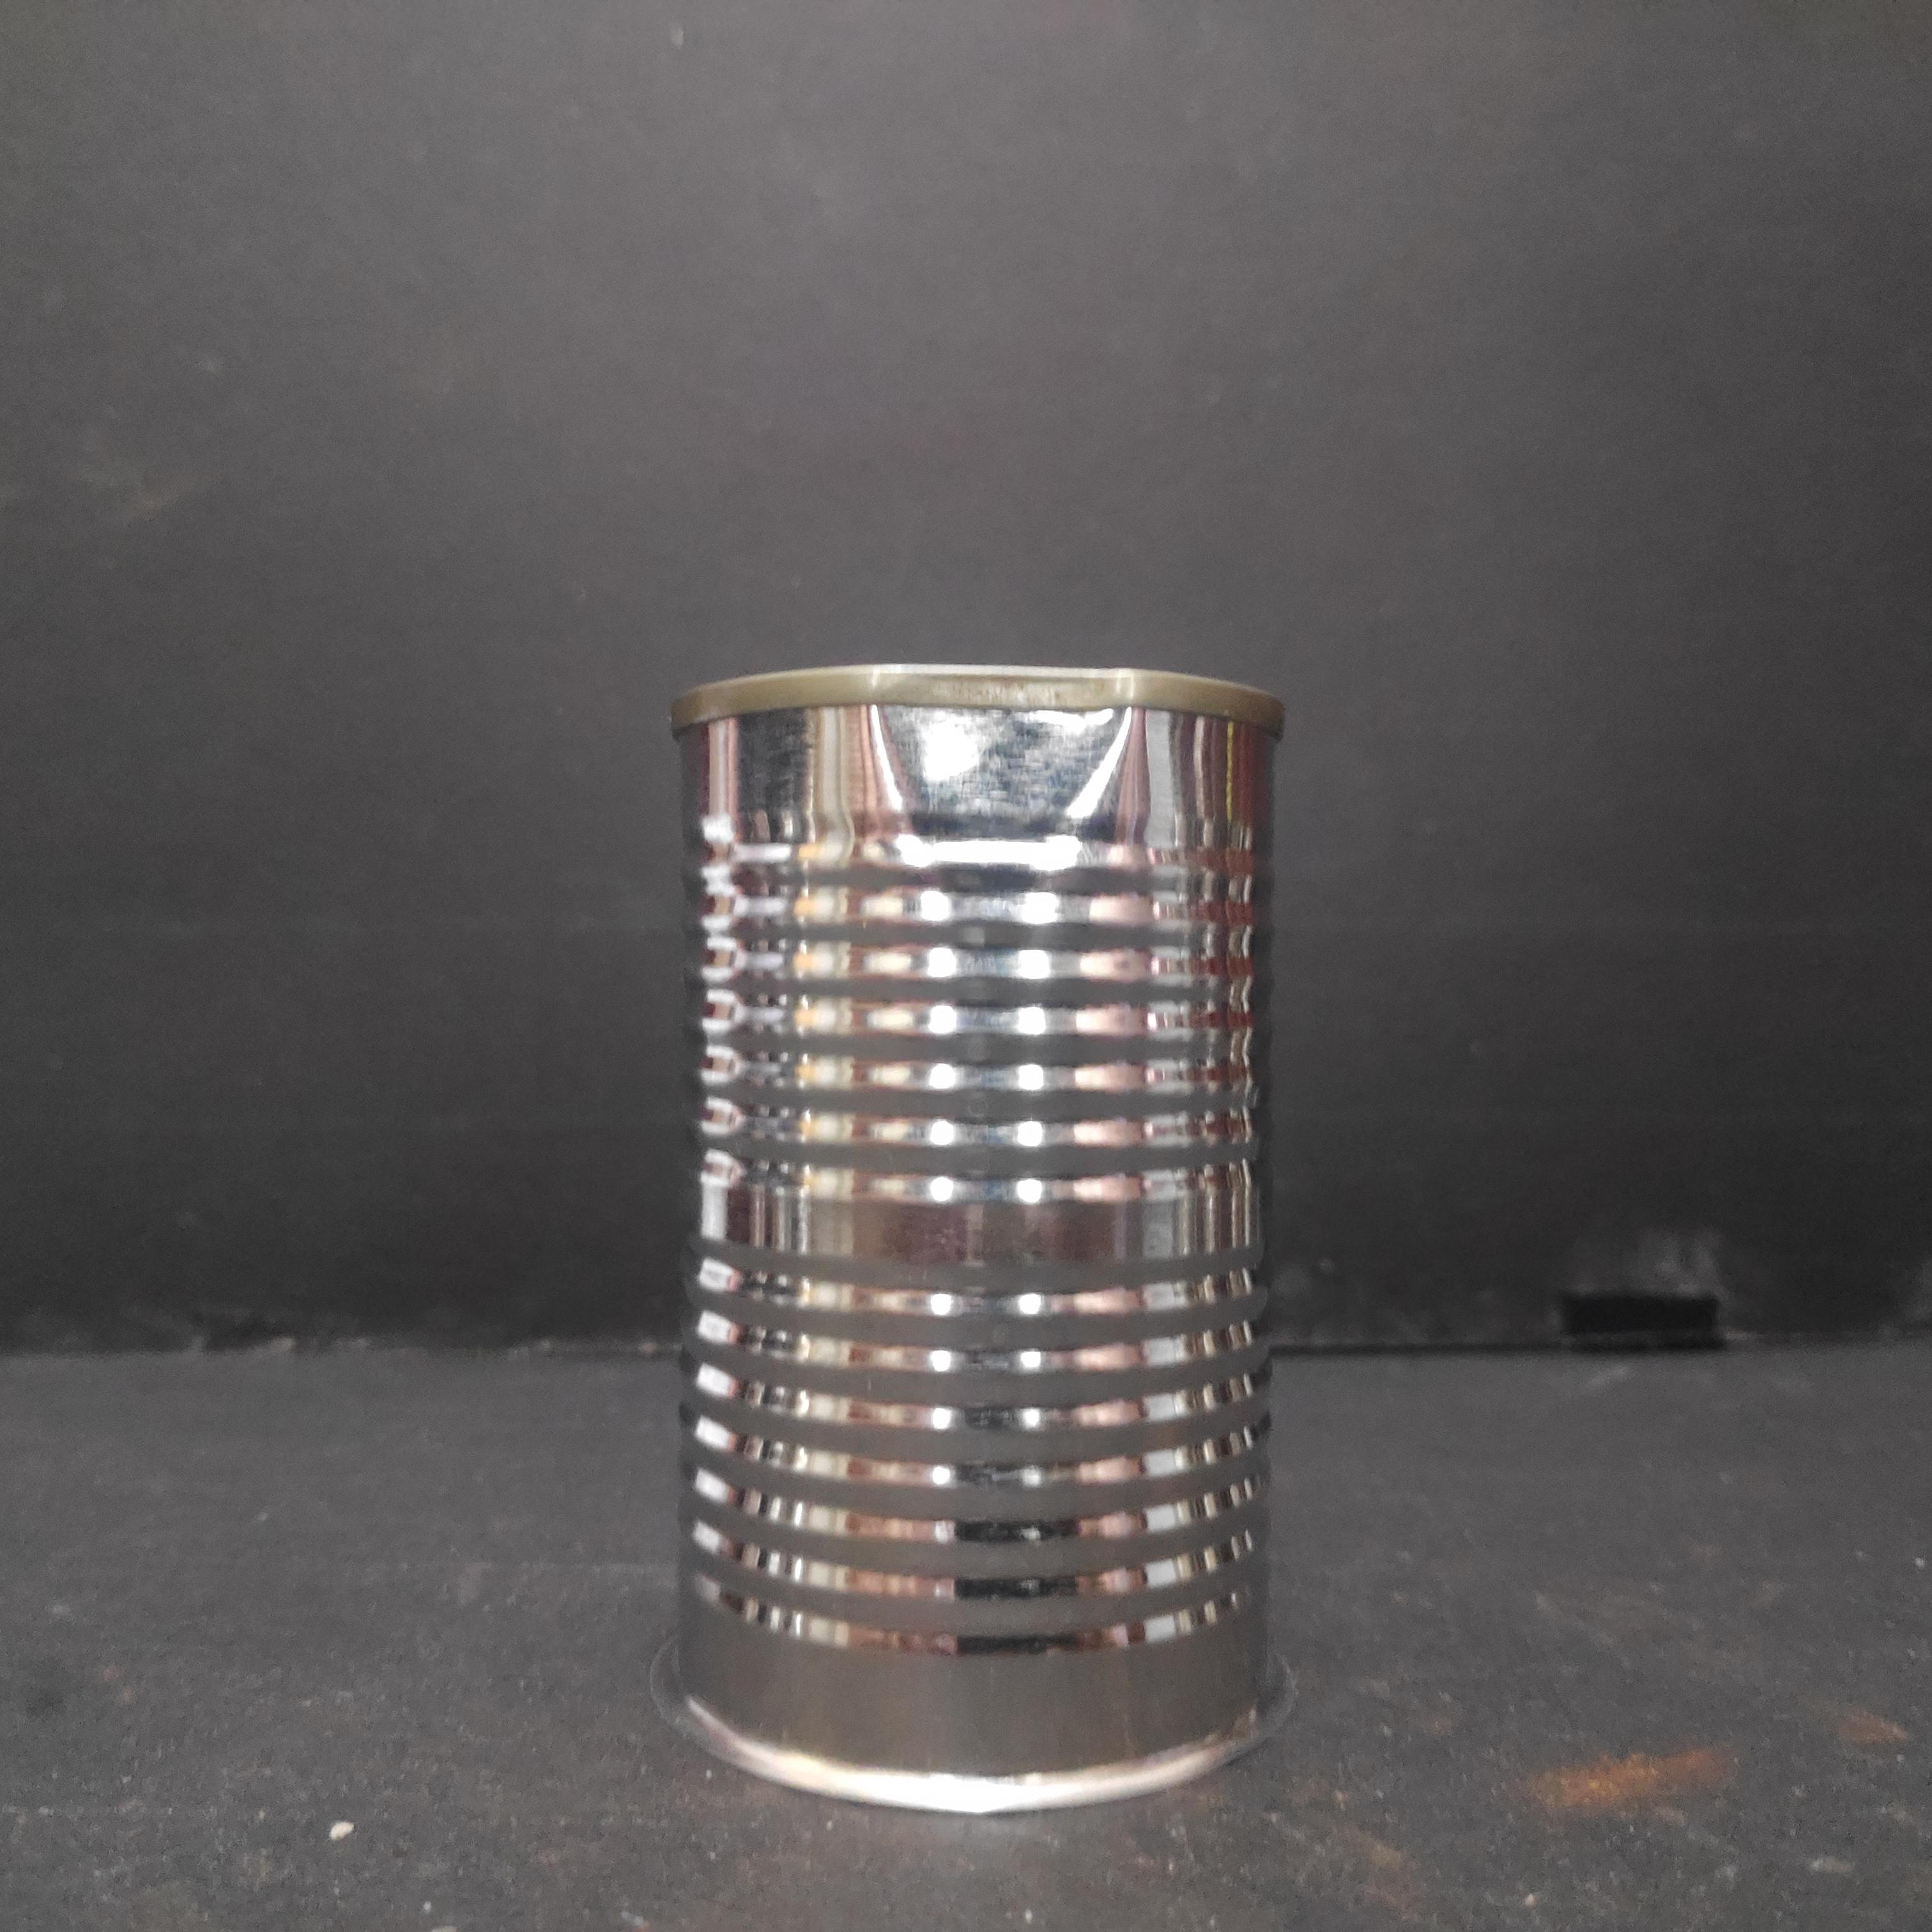Minor Defect: (665, 658, 1300, 1817)
